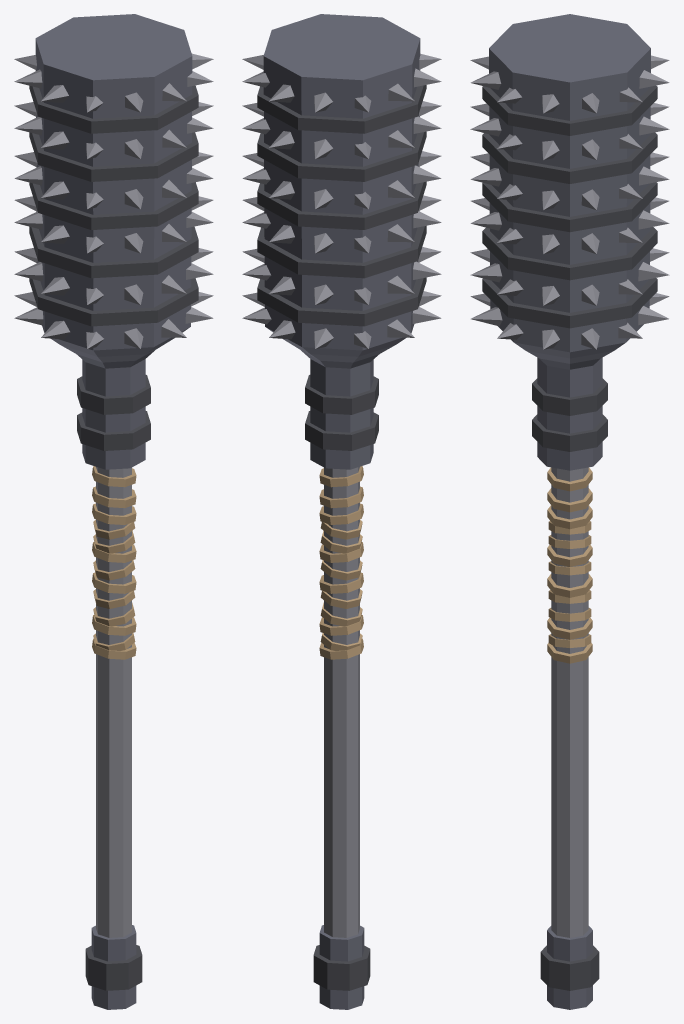
Rendered from _hammer_05.fbx.
The picture shows the model from 3 angles, left to right: view 1: azimuth 30°, elevation 25°; view 2: azimuth 150°, elevation 25°; view 3: azimuth 270°, elevation 25°; orthographic projection.
Visible parts, largest first — view 1: hammer_05; view 2: hammer_05; view 3: hammer_05.
Boxes of the visible parts, x1,y1,x2,y2 form: hammer_05: (14,14,213,1009); hammer_05: (242,14,441,1009); hammer_05: (470,14,669,1009).
Bounding box in the file's own units: 15.53 × 81.68 × 15.53.
